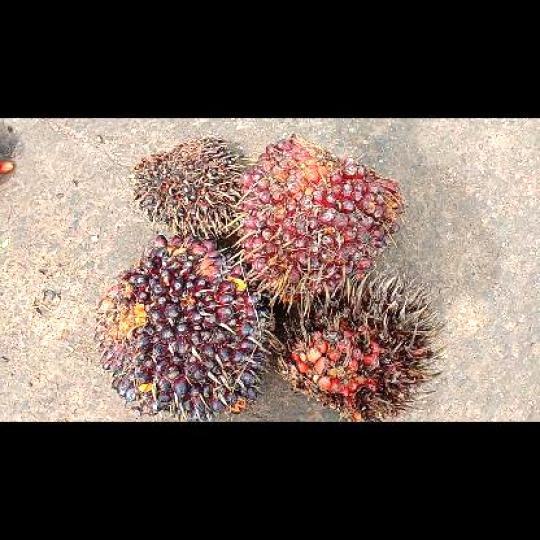kurang masak: (92, 231, 274, 422)
masak: (238, 131, 406, 306)
terlalu masak: (275, 273, 452, 420)
